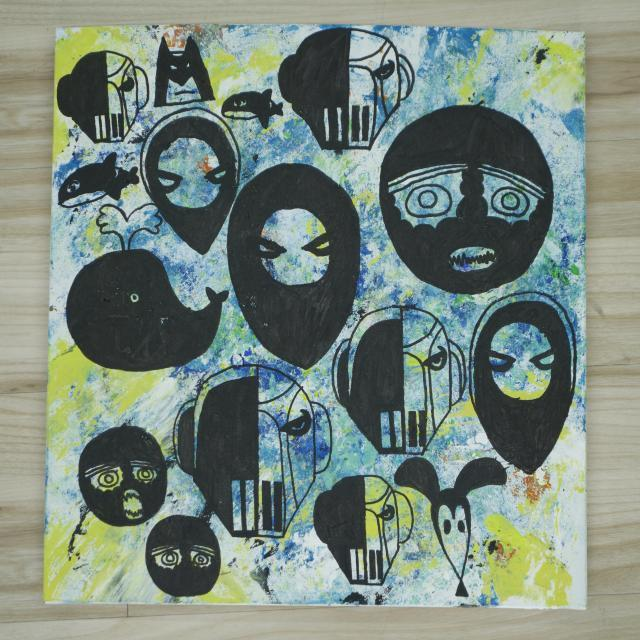painting: (44, 26, 586, 608)
